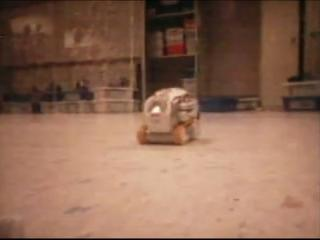cozmo: (136, 86, 201, 145)
